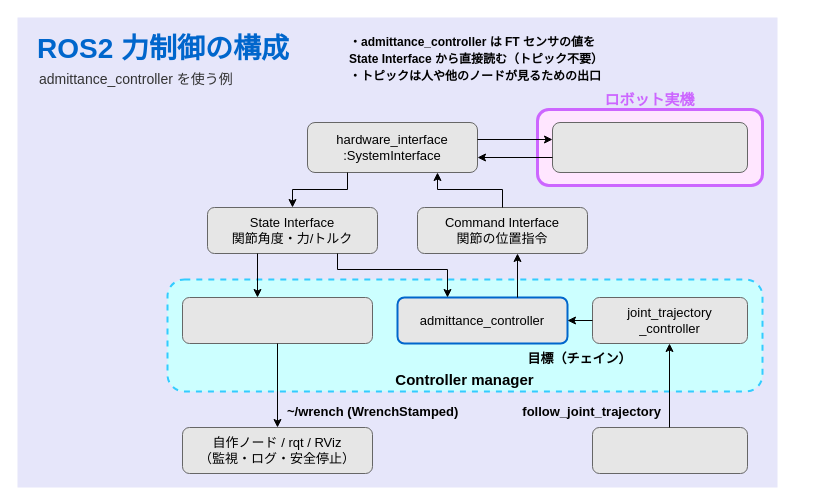
The diagram is 826 pixels wide and 504 high, and some of its shapes have lost their labels. Here are the shapes that lost their labels. From the top down, the box of each, then its label:
(552, 122, 748, 172): ドライバ（例: UR） 関節モータ ＋ FTセンサ
(182, 296, 372, 344): force_torque_sensor _broadcaster
(592, 426, 748, 474): MoveIt / 自作ノード
